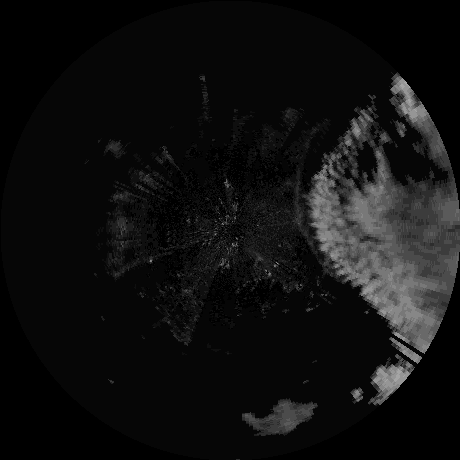frontgust: (294, 180, 309, 251)
